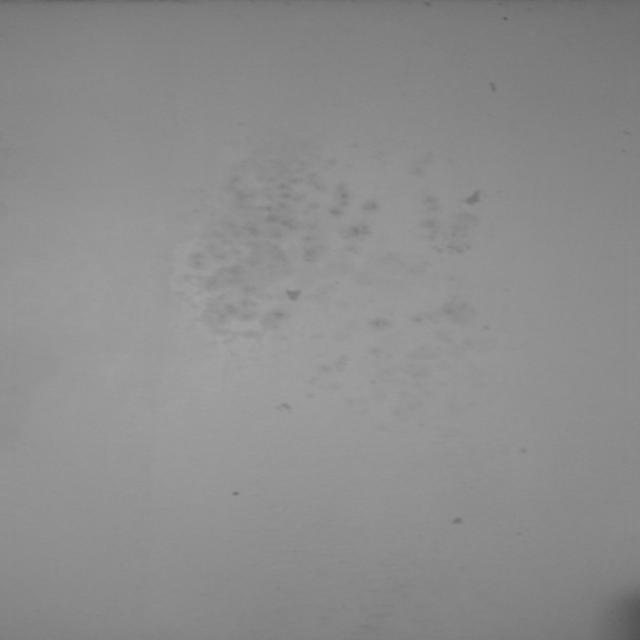stain marks: (135, 140, 530, 440), (413, 1, 640, 137), (430, 492, 479, 536), (207, 473, 255, 517)
